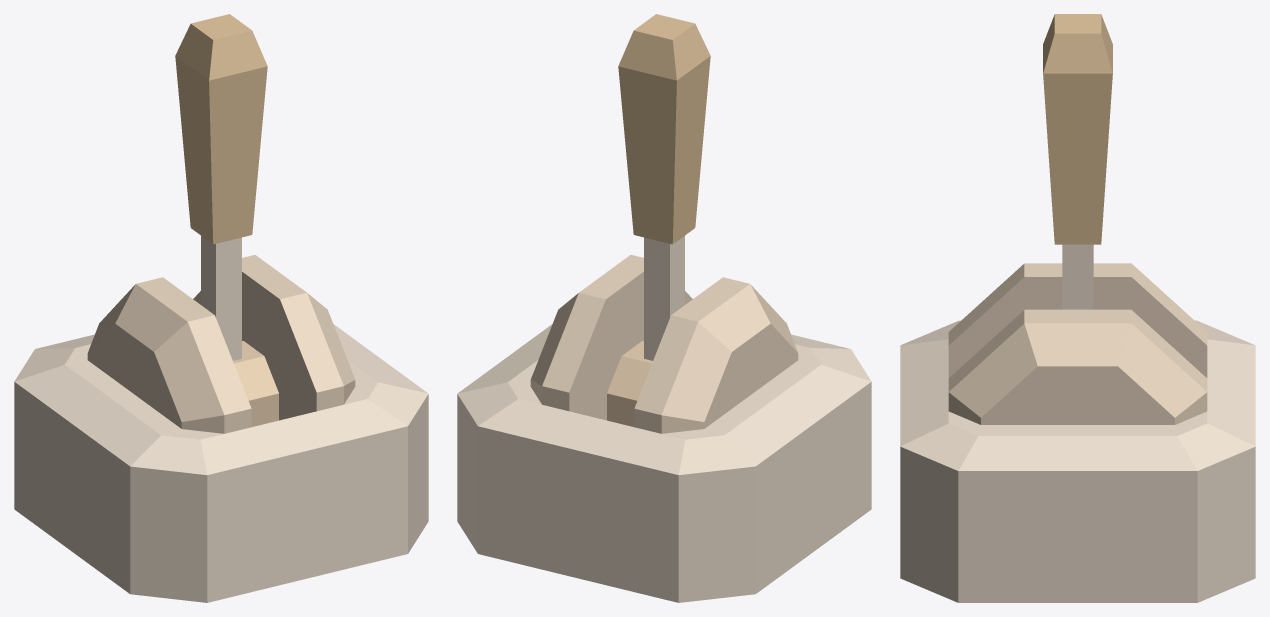
File: puzzle_lever.glb
3 views of the same model, side by side, from view 1: azimuth 30°, elevation 25°; view 2: azimuth 150°, elevation 25°; view 3: azimuth 270°, elevation 25° (orthographic). The views are drawn at different scales.
Visible parts, largest first — view 1: object2.001, object1.001; view 2: object2.001, object1.001; view 3: object2.001, object1.001.
Boxes of the visible parts, box(x1,y1,x2,y2) form: object2.001: box(14, 255, 428, 602); object1.001: box(175, 14, 278, 426); object2.001: box(457, 255, 871, 602); object1.001: box(607, 14, 710, 426); object2.001: box(900, 263, 1255, 602); object1.001: box(1043, 14, 1112, 309).
Bounding box in the file's own units: 0.55 × 0.86 × 0.55.
